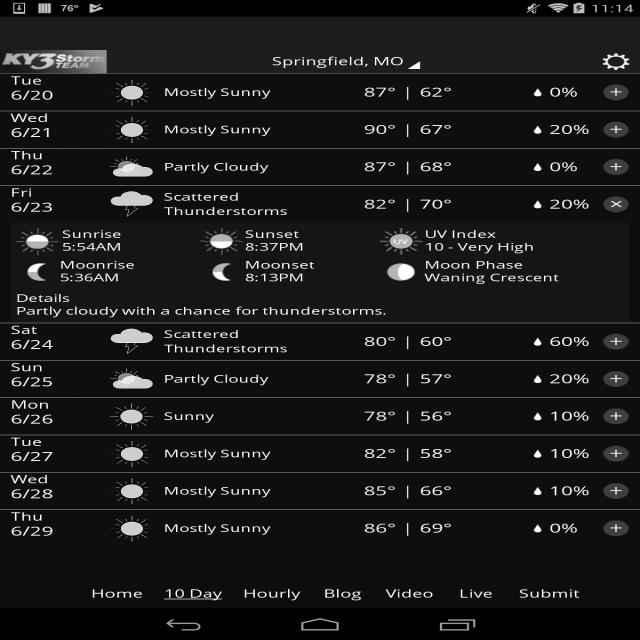ImageView: (0, 17, 640, 608), (0, 50, 107, 73), (15, 228, 60, 255), (110, 79, 153, 106), (110, 116, 153, 143), (110, 191, 153, 218), (200, 228, 243, 255), (110, 328, 153, 355), (110, 403, 153, 430), (110, 440, 153, 467), (110, 515, 153, 542), (380, 228, 422, 255), (110, 154, 153, 180), (15, 259, 58, 285), (200, 259, 243, 285), (110, 366, 153, 392), (110, 478, 153, 504), (380, 259, 422, 285), (603, 154, 629, 180), (603, 366, 629, 392), (603, 478, 629, 504), (603, 80, 629, 105), (603, 117, 629, 142), (603, 192, 629, 217), (603, 329, 629, 354), (603, 404, 629, 429), (603, 441, 629, 466), (603, 516, 629, 541), (597, 53, 635, 70), (524, 125, 549, 134), (524, 88, 549, 96), (524, 163, 549, 171), (524, 200, 549, 208), (524, 338, 549, 346), (524, 375, 549, 383), (524, 412, 549, 420), (524, 450, 549, 458), (524, 487, 549, 495), (524, 524, 549, 532)
TextView: (16, 305, 387, 317), (267, 50, 437, 73), (153, 190, 292, 218), (153, 328, 292, 355), (153, 86, 292, 99), (153, 123, 292, 136), (153, 410, 292, 423), (153, 447, 292, 460), (153, 522, 292, 535), (424, 271, 559, 284), (153, 161, 292, 173), (153, 373, 292, 385), (153, 485, 292, 497), (424, 241, 534, 253), (425, 259, 523, 271), (326, 159, 396, 175), (326, 371, 396, 387), (326, 483, 396, 499), (420, 159, 489, 175), (420, 371, 489, 387), (420, 483, 489, 499), (326, 85, 396, 100), (326, 122, 396, 137), (326, 197, 396, 212), (326, 334, 396, 349), (326, 409, 396, 424), (326, 446, 396, 461), (326, 521, 396, 536), (420, 85, 489, 100), (420, 122, 489, 137), (420, 197, 489, 212), (420, 334, 489, 349), (420, 409, 489, 424), (420, 446, 489, 461), (420, 521, 489, 536), (425, 228, 496, 241), (60, 259, 135, 271), (549, 159, 603, 175), (549, 371, 603, 387), (549, 483, 603, 499), (519, 587, 580, 601), (244, 259, 314, 271), (164, 587, 222, 601), (549, 85, 603, 100), (549, 122, 603, 137), (549, 197, 603, 212), (549, 334, 603, 349), (549, 409, 603, 424), (549, 446, 603, 461), (549, 521, 603, 536), (243, 587, 300, 601), (62, 228, 121, 241), (60, 271, 119, 284), (245, 271, 304, 284), (91, 587, 143, 601), (62, 241, 121, 253), (245, 241, 304, 253), (245, 228, 299, 241), (16, 292, 70, 305), (11, 162, 53, 178), (11, 374, 53, 390), (11, 486, 53, 502), (386, 587, 434, 601), (11, 88, 53, 103), (11, 125, 53, 140), (11, 200, 53, 215), (11, 337, 53, 352), (11, 412, 53, 427), (11, 449, 53, 464), (11, 524, 53, 539), (10, 398, 50, 412), (324, 587, 362, 601), (11, 111, 48, 125), (11, 473, 48, 486), (459, 587, 493, 601), (11, 510, 43, 524), (11, 74, 42, 88), (11, 435, 42, 449), (11, 149, 43, 162), (11, 361, 43, 374), (396, 159, 420, 175), (396, 371, 420, 387), (396, 483, 420, 499), (11, 323, 37, 337), (396, 85, 420, 100), (396, 122, 420, 137), (396, 197, 420, 212), (396, 334, 420, 349), (396, 409, 420, 424), (396, 446, 420, 461), (396, 521, 420, 536), (10, 186, 32, 200)
